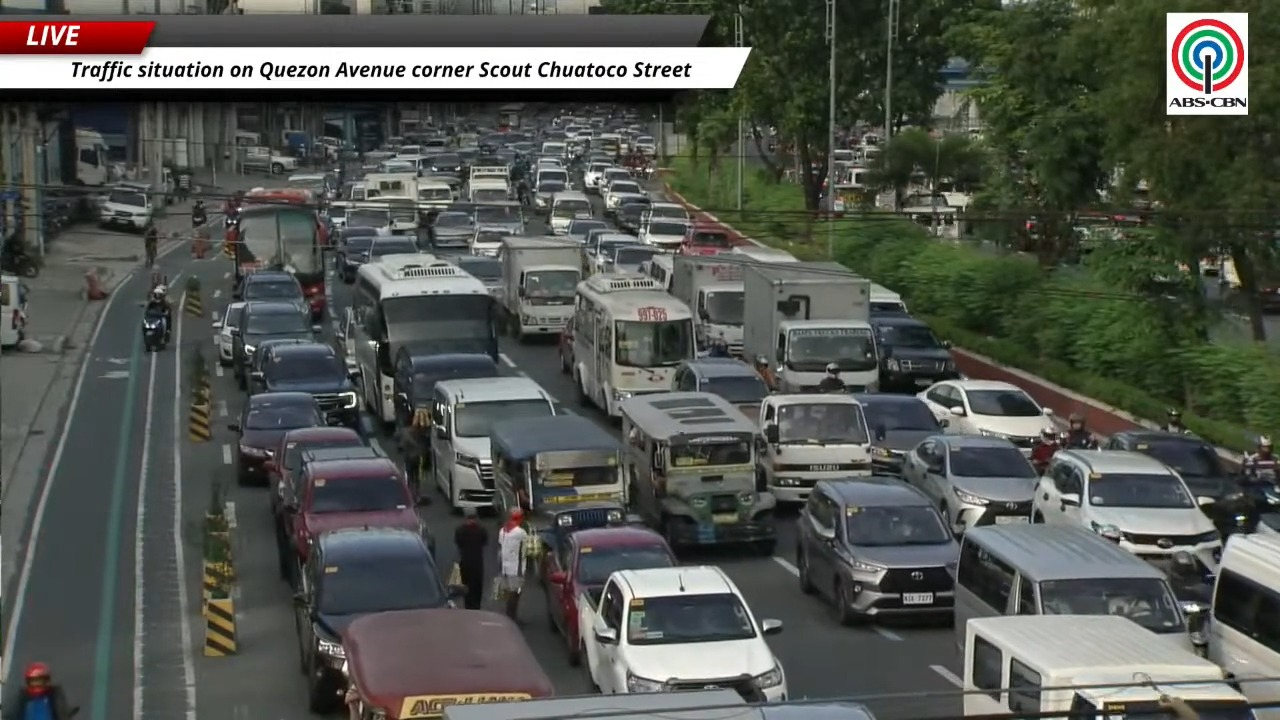bus: (348, 253, 498, 424), (572, 273, 695, 417), (226, 188, 328, 320), (498, 103, 523, 131)
car: (295, 528, 456, 712), (579, 565, 786, 701), (796, 476, 958, 624), (1032, 451, 1222, 575), (541, 526, 677, 665), (278, 456, 434, 566), (1102, 429, 1260, 535), (901, 434, 1038, 534), (266, 427, 375, 539), (916, 379, 1052, 454), (251, 342, 358, 428), (228, 392, 325, 485), (393, 347, 500, 423), (854, 393, 949, 472), (233, 301, 314, 389), (870, 314, 959, 393), (672, 357, 769, 419), (246, 338, 314, 393), (235, 270, 310, 314), (99, 183, 160, 231), (335, 227, 377, 283), (584, 231, 640, 272), (453, 255, 503, 297), (213, 301, 243, 366), (678, 220, 733, 255), (428, 211, 473, 251), (602, 176, 645, 215), (363, 233, 420, 262), (638, 219, 688, 251), (607, 243, 661, 272), (342, 205, 390, 234), (469, 226, 512, 257), (614, 198, 649, 234), (534, 180, 567, 214), (598, 166, 633, 197), (566, 218, 608, 243), (557, 316, 574, 374), (645, 202, 691, 222), (584, 161, 613, 192), (583, 226, 617, 250)
motorcycle: (1244, 482, 1279, 534), (0, 243, 39, 277), (142, 312, 167, 351)
truck: (744, 262, 878, 392), (499, 236, 581, 340), (670, 254, 750, 356), (75, 128, 110, 186), (238, 146, 298, 174), (364, 173, 418, 203)
